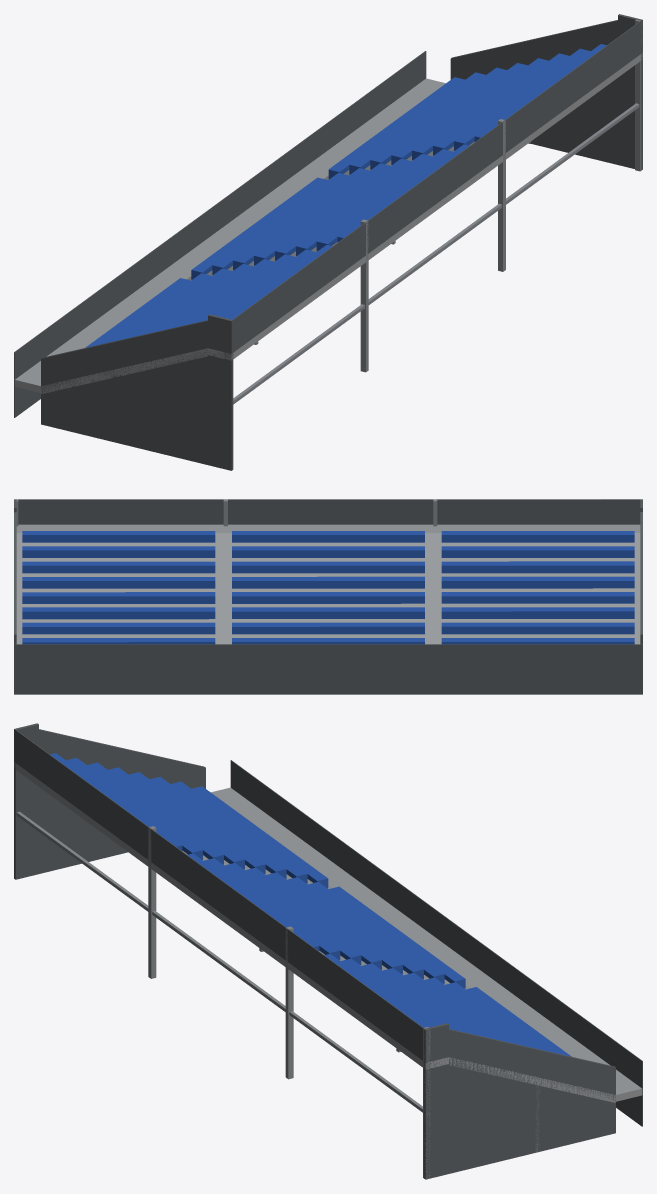
File: mza_stand_roggia.glb
3 views of the same model, one above another, from view 1: azimuth 30°, elevation 25°; view 2: azimuth 150°, elevation 25°; view 3: azimuth 270°, elevation 25° (orthographic). The views are drawn at different scales.
Visible parts, largest first — view 1: monza-roggia; view 2: monza-roggia; view 3: monza-roggia.
Boxes of the visible parts, x1,y1,x2,y2 form: monza-roggia: [14, 14, 642, 470]; monza-roggia: [14, 499, 642, 694]; monza-roggia: [14, 723, 642, 1179].
Bounding box in the file's own units: 27.81 × 5.48 × 20.87.
